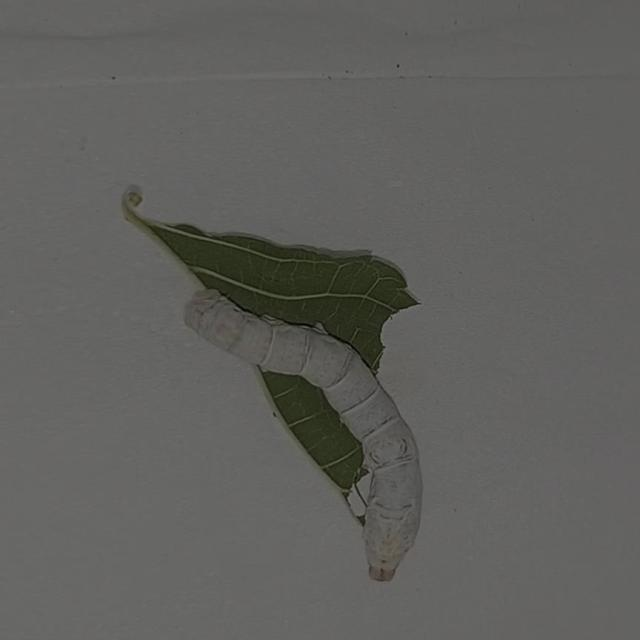Healthy: (165, 274, 475, 597)
